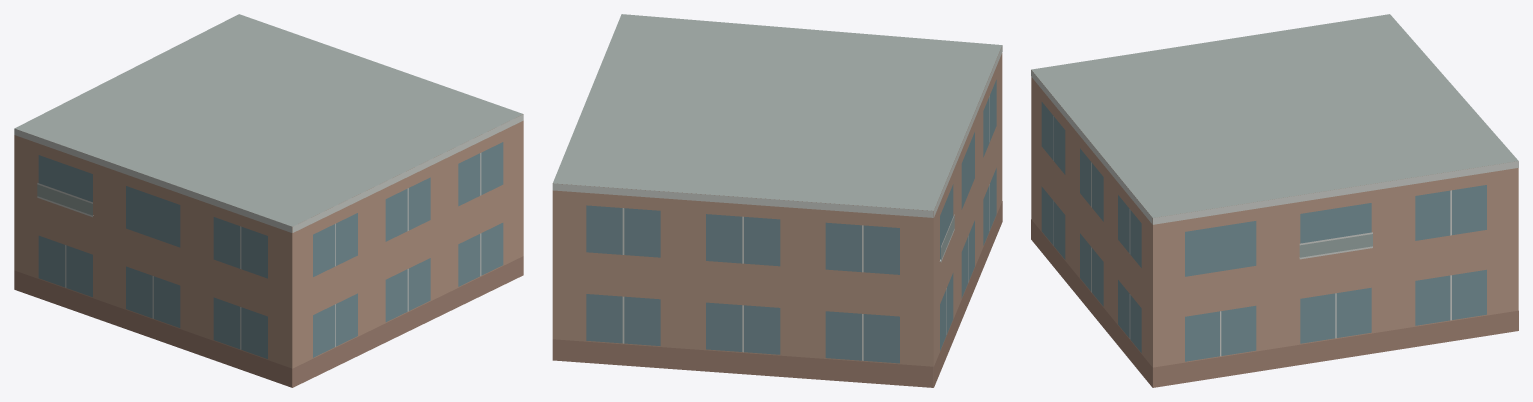
The model's file is survey-upis-32835779.glb.
The picture shows the model from 3 angles, left to right: view 1: azimuth 30°, elevation 25°; view 2: azimuth 150°, elevation 25°; view 3: azimuth 270°, elevation 25°; orthographic projection. The views are drawn at different scales.
Visible parts, largest first — view 1: survey-upis-32835779.tmp; view 2: survey-upis-32835779.tmp; view 3: survey-upis-32835779.tmp.
Part boxes in pixels (x1,y1,x2,y2): survey-upis-32835779.tmp: [14, 14, 523, 387]; survey-upis-32835779.tmp: [552, 14, 1002, 387]; survey-upis-32835779.tmp: [1031, 14, 1518, 387].
Size of the model in its own units: 15.73 by 6.1 by 15.89.
